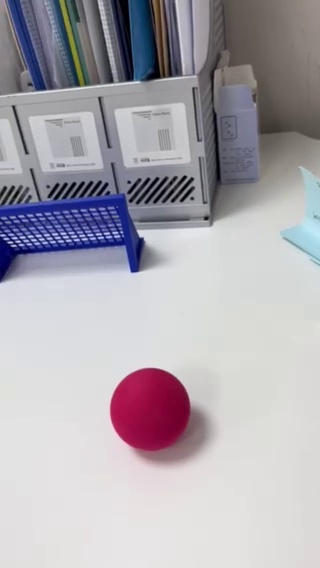goal: (1, 193, 143, 287)
redball: (109, 367, 191, 452)
